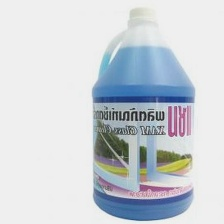cleaning_solution: (90, 2, 199, 223)
